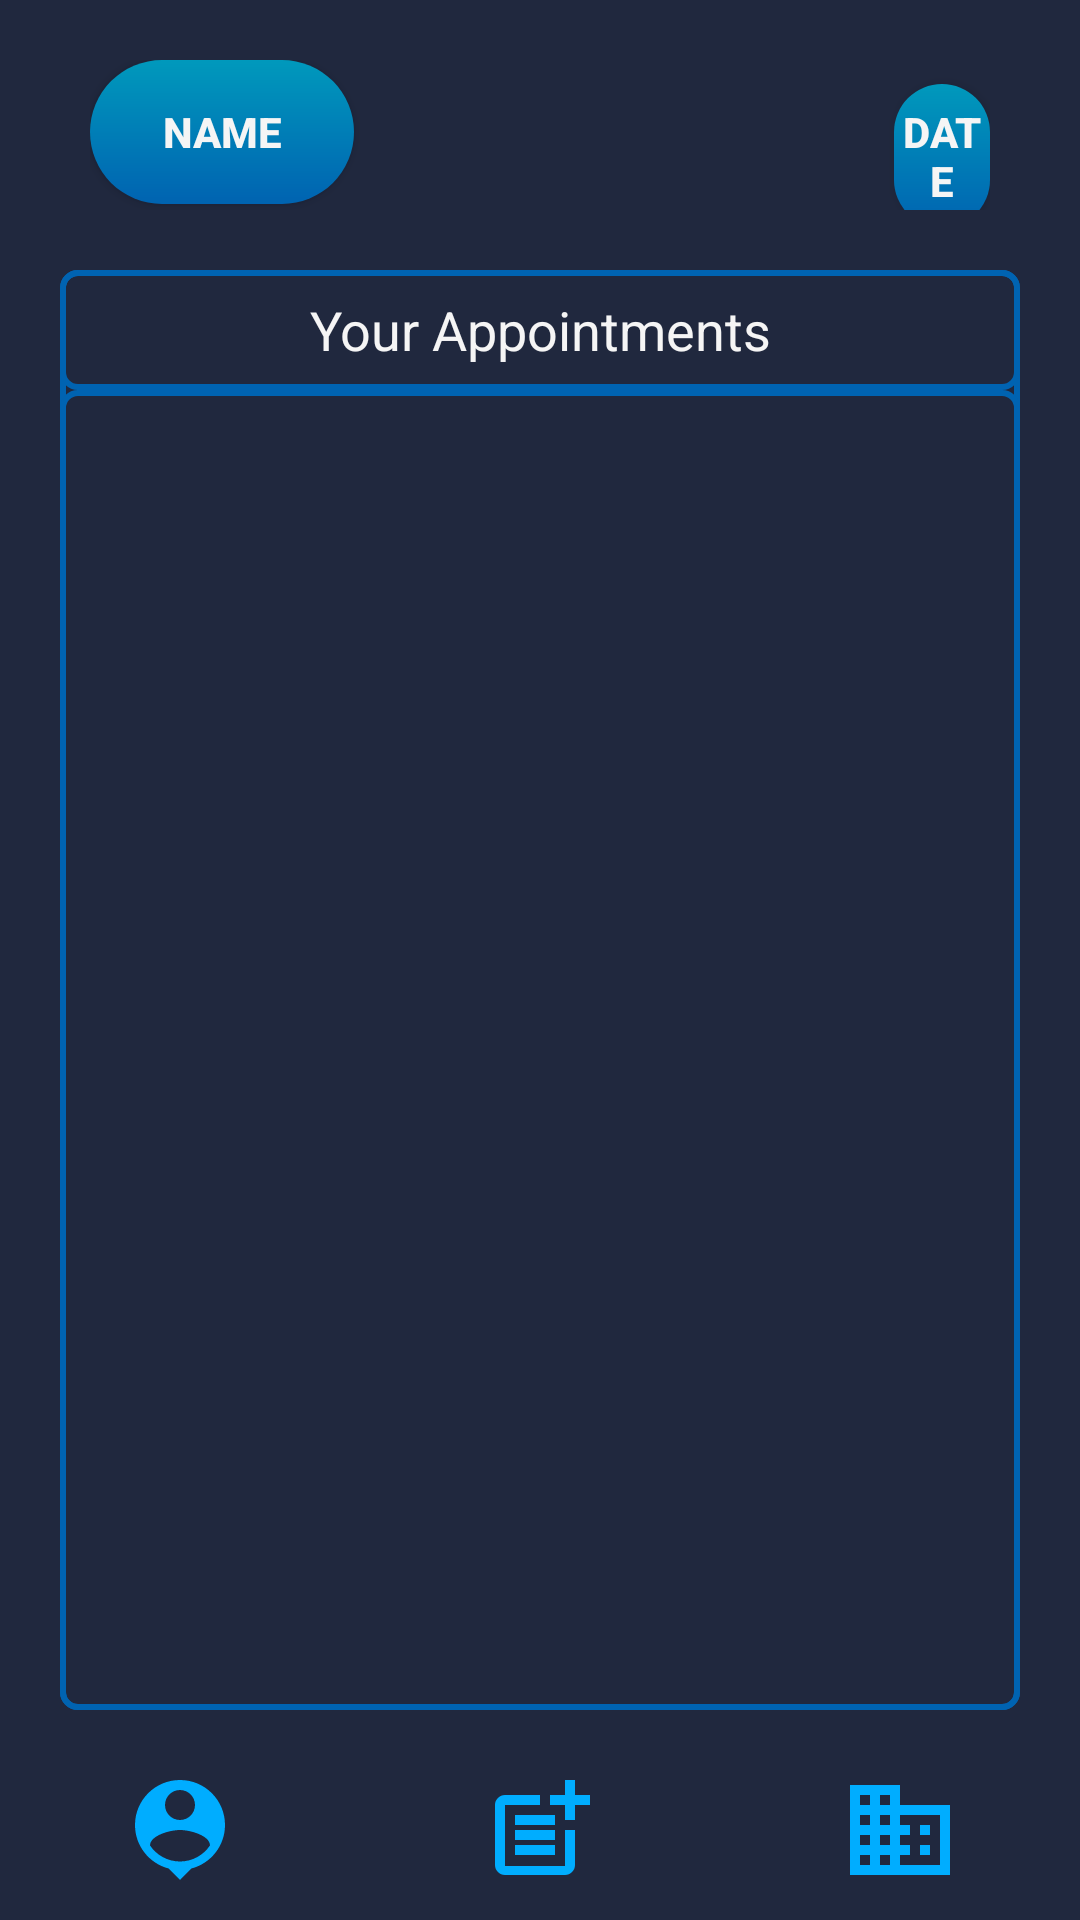

Where icons sit on this 1080px x 1920px app screen, as (x1, y1, x2, y2):
add bussiness: (495, 1780, 590, 1875)
business center: (850, 1785, 950, 1875)
personal page: (135, 1780, 225, 1880)
